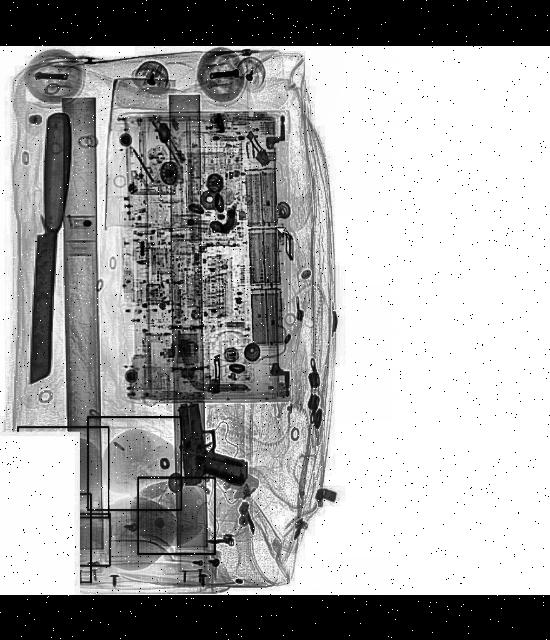Gun: (174, 397, 248, 487)
Knife: (29, 112, 70, 384)
